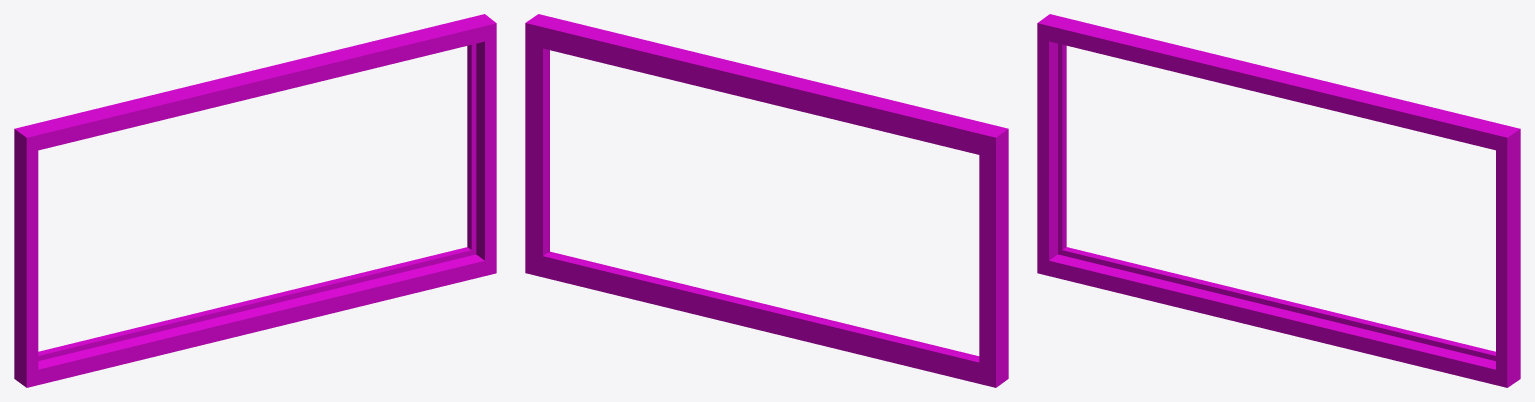
Rendered from Window_B_01_Lod1.fbx.
3 renders of one model, left to right at view 1: azimuth 30°, elevation 25°; view 2: azimuth 150°, elevation 25°; view 3: azimuth 330°, elevation 25°, orthographic.
Visible parts, largest first — view 1: Window_B_01_Lod1; view 2: Window_B_01_Lod1; view 3: Window_B_01_Lod1.
Boxes of the visible parts, bbox=[...] form: Window_B_01_Lod1: bbox=[14, 14, 496, 387]; Window_B_01_Lod1: bbox=[525, 14, 1008, 387]; Window_B_01_Lod1: bbox=[1037, 14, 1520, 387].
Bounding box in the file's own units: 239 × 121 × 10.93.
